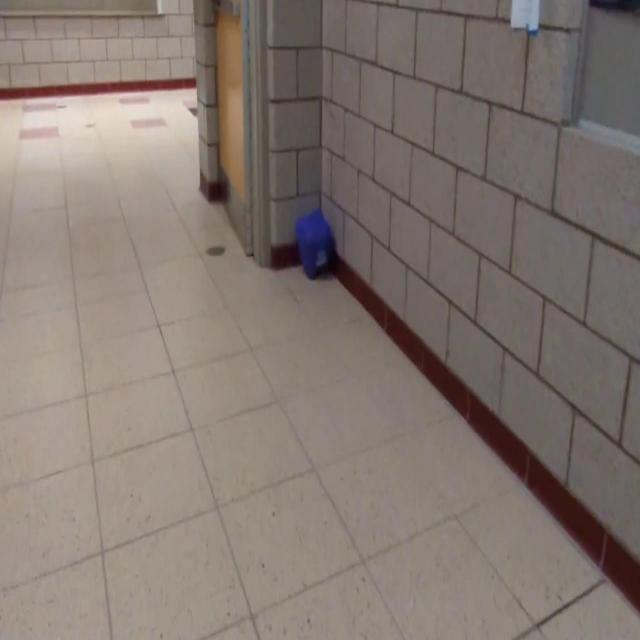frc_cube: (295, 210, 335, 282)
